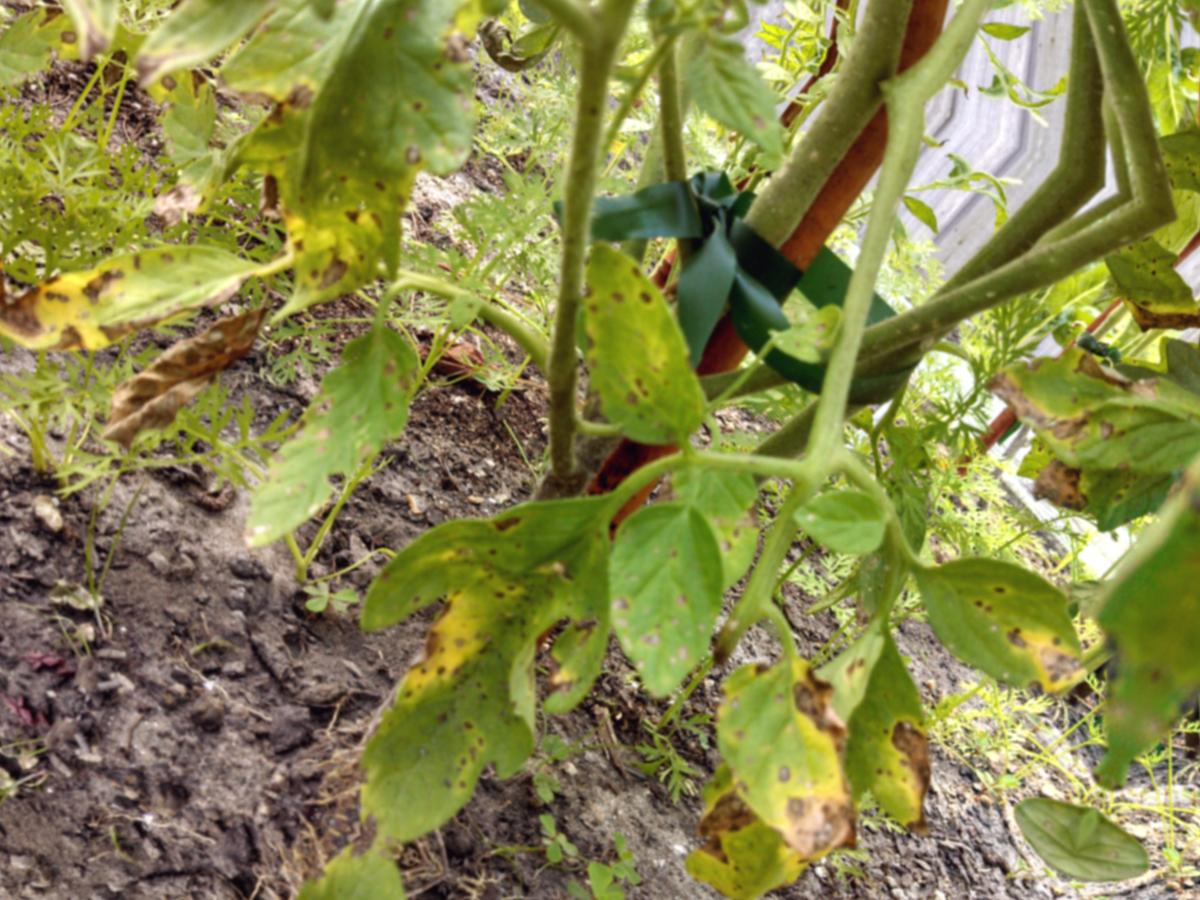Tomato Septoria leaf spot: (272, 416, 689, 900), (186, 249, 475, 628), (661, 585, 913, 866), (772, 605, 1030, 875), (508, 229, 763, 479), (552, 465, 779, 723), (895, 519, 1128, 719)
